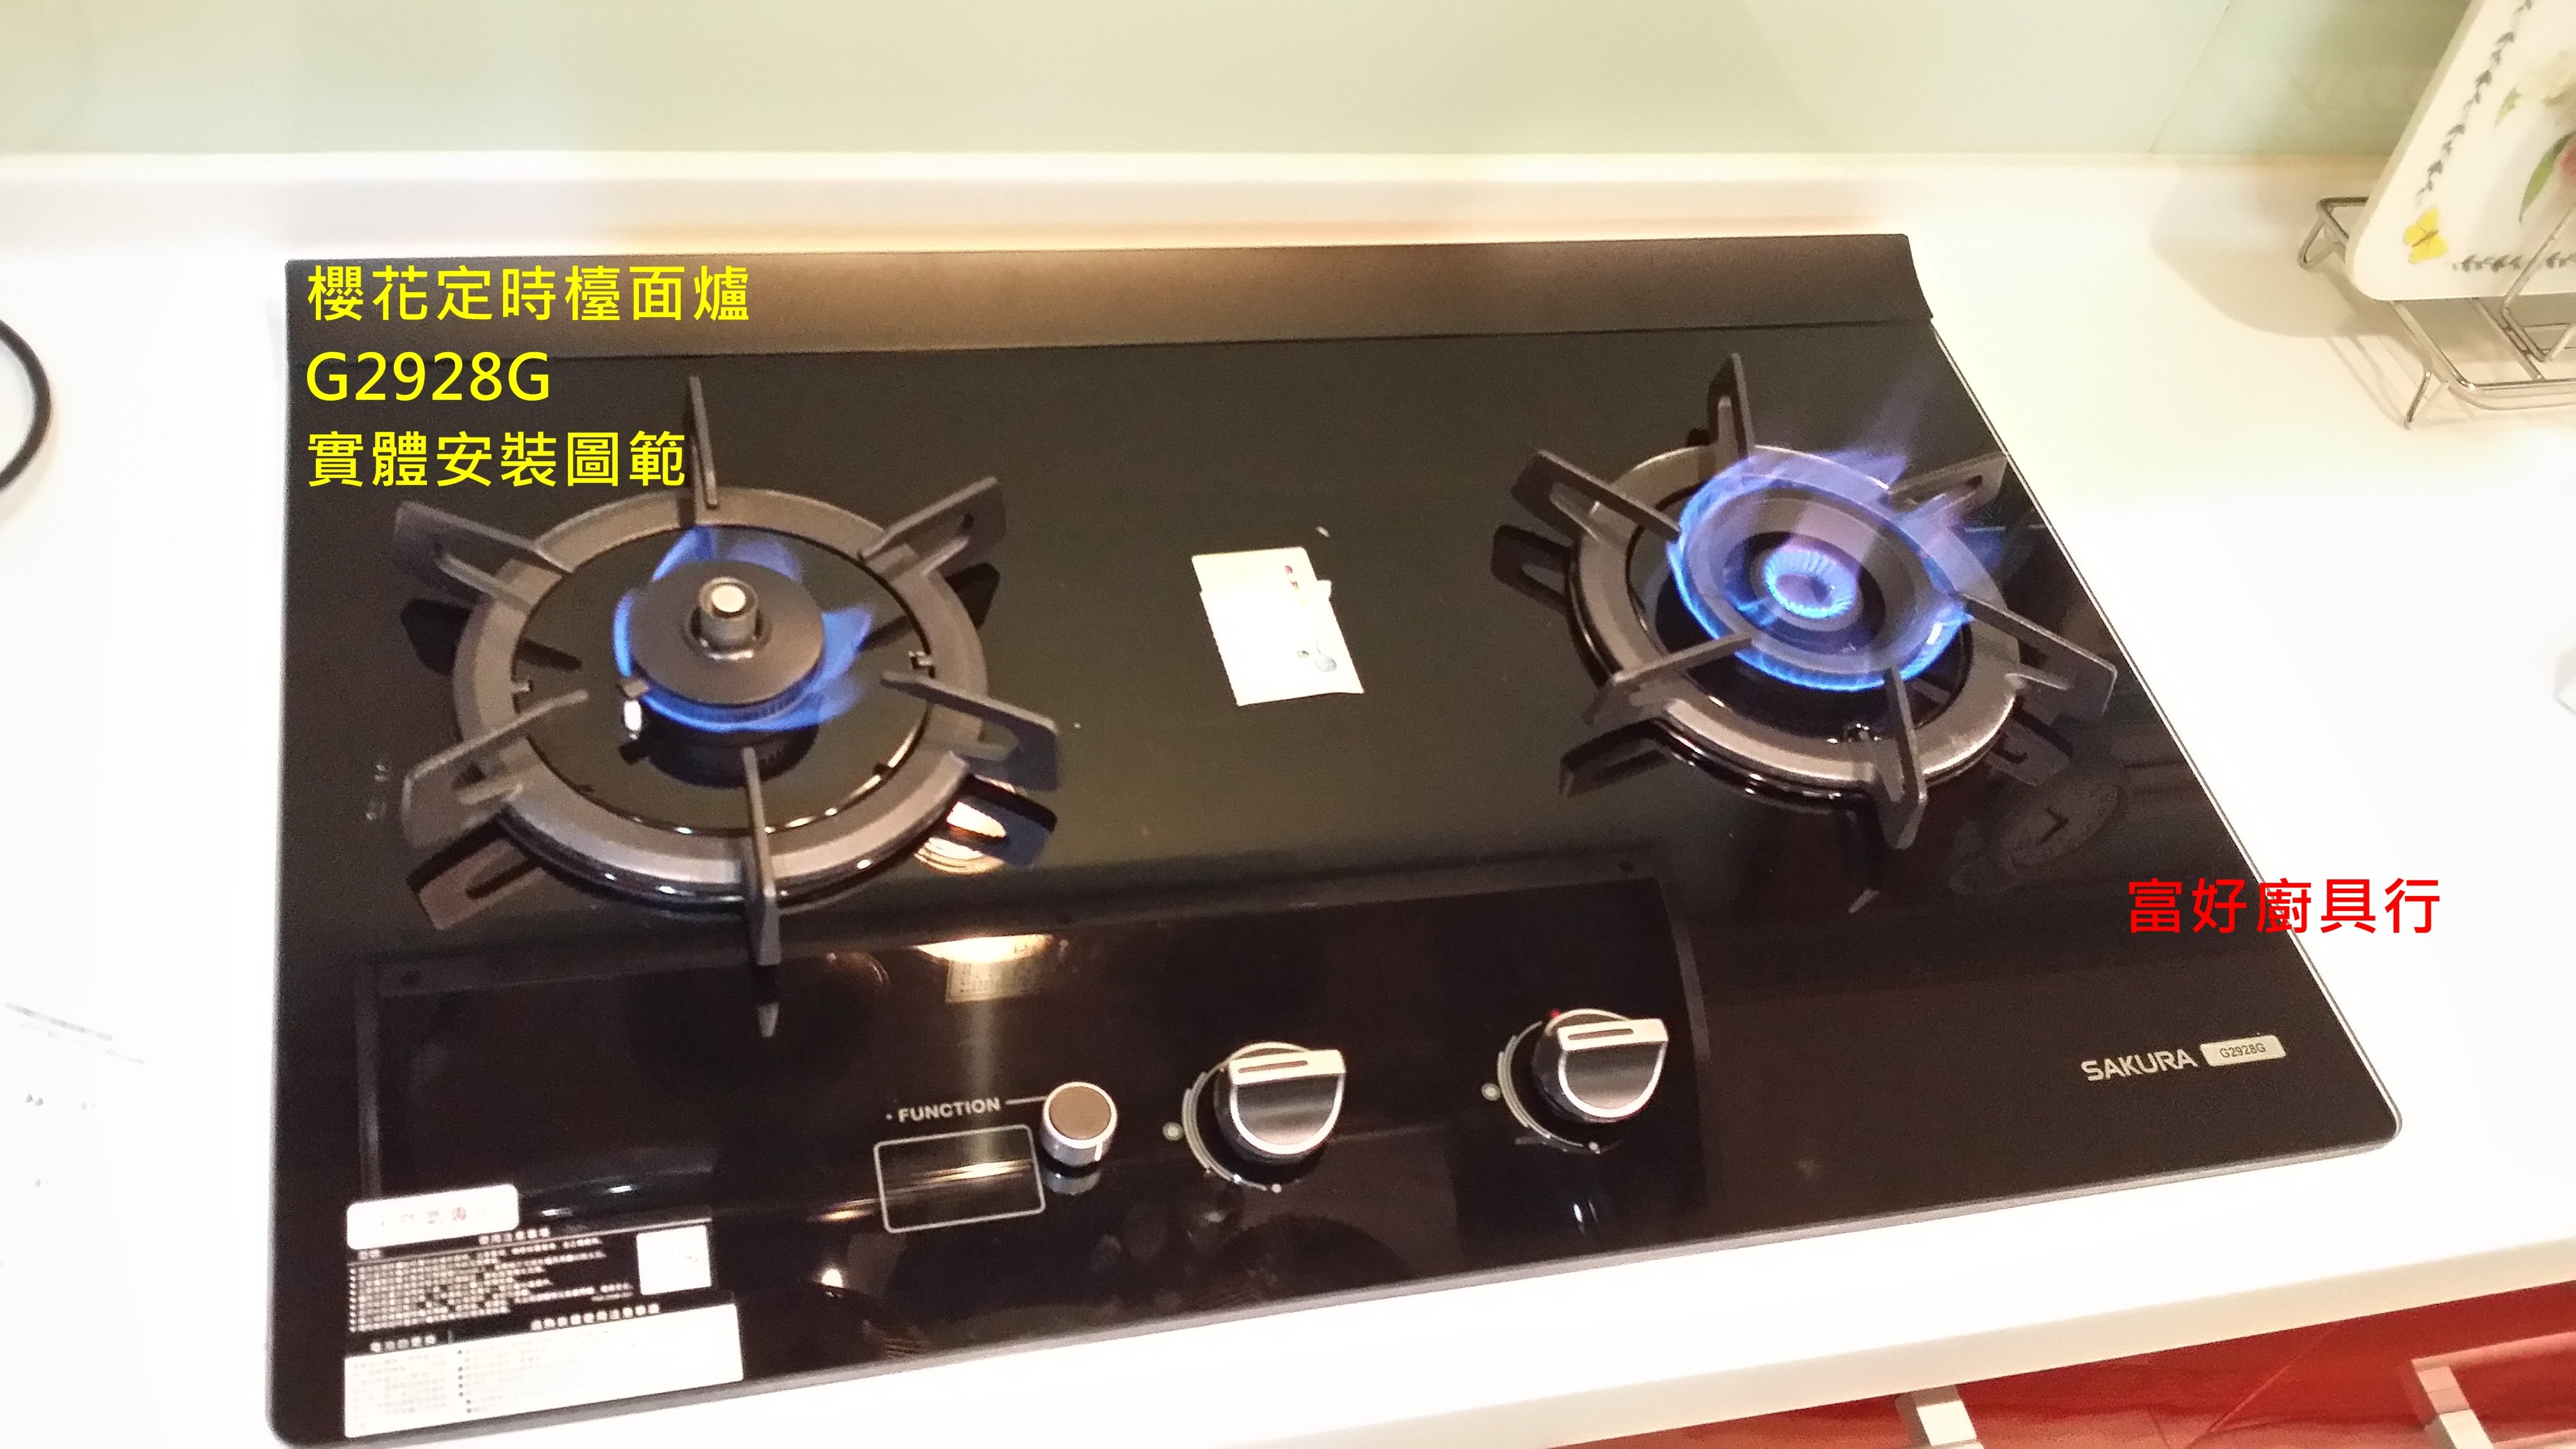gasoven: (276, 341, 2433, 1449)
